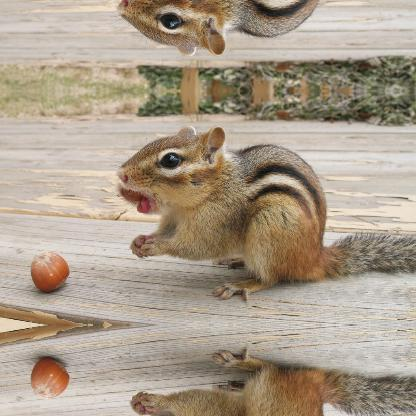Squirrel: (108, 113, 416, 302), (108, 0, 415, 69), (108, 347, 415, 415)
